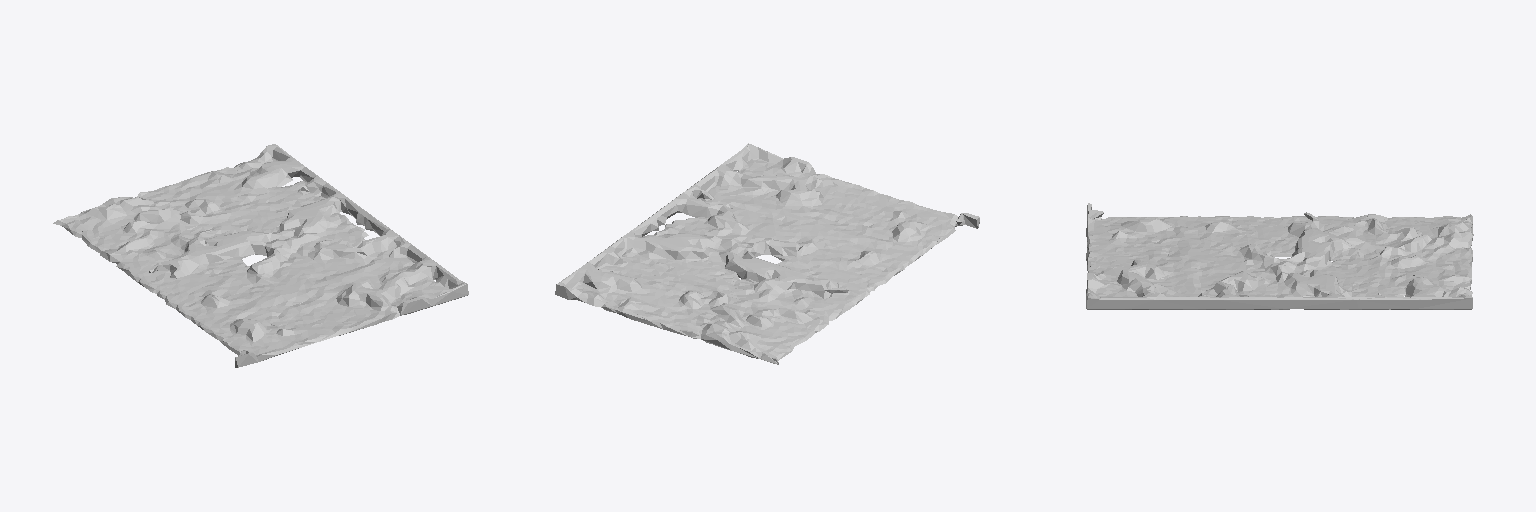
The picture shows the model from 3 angles: view 1: azimuth 30°, elevation 25°; view 2: azimuth 150°, elevation 25°; view 3: azimuth 270°, elevation 25°; orthographic projection.
Visible parts, largest first — view 1: Liquid_Domain; view 2: Liquid_Domain; view 3: Liquid_Domain.
Part boxes in pixels (bbox=[...]): Liquid_Domain: bbox=[53, 144, 468, 367]; Liquid_Domain: bbox=[555, 143, 979, 364]; Liquid_Domain: bbox=[1086, 203, 1473, 309].
Size of the model in its own units: 117 by 13.71 by 168.